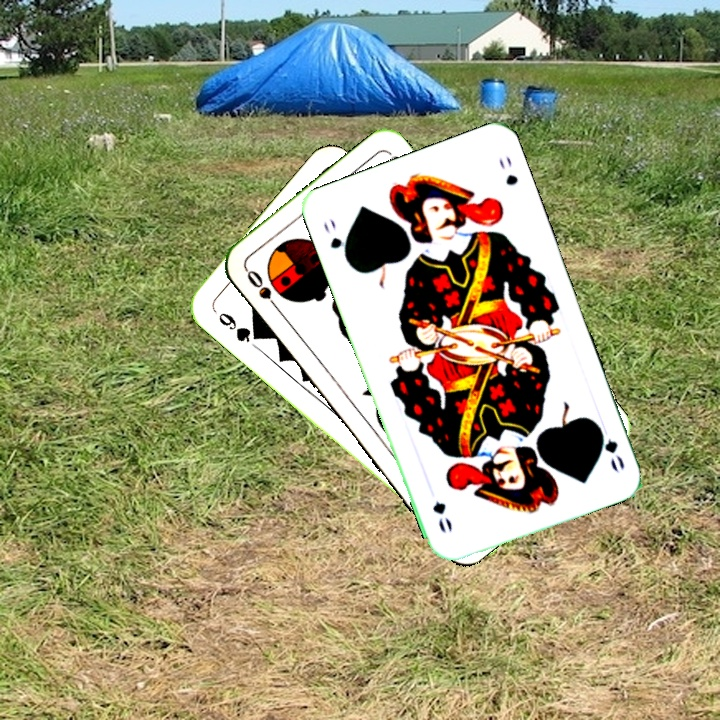G9: (214, 308, 263, 345)
GO: (592, 417, 628, 475), (319, 214, 352, 266)
SO: (242, 265, 284, 316)
